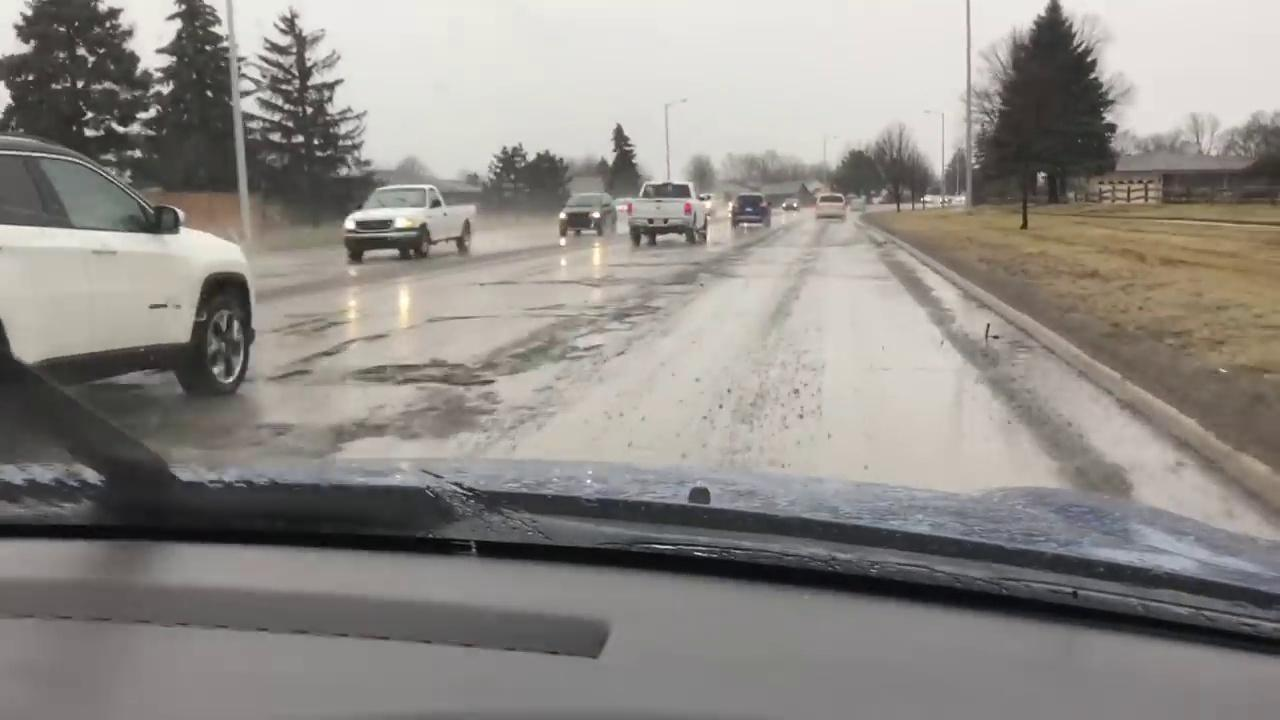pothole: (357, 360, 494, 384)
